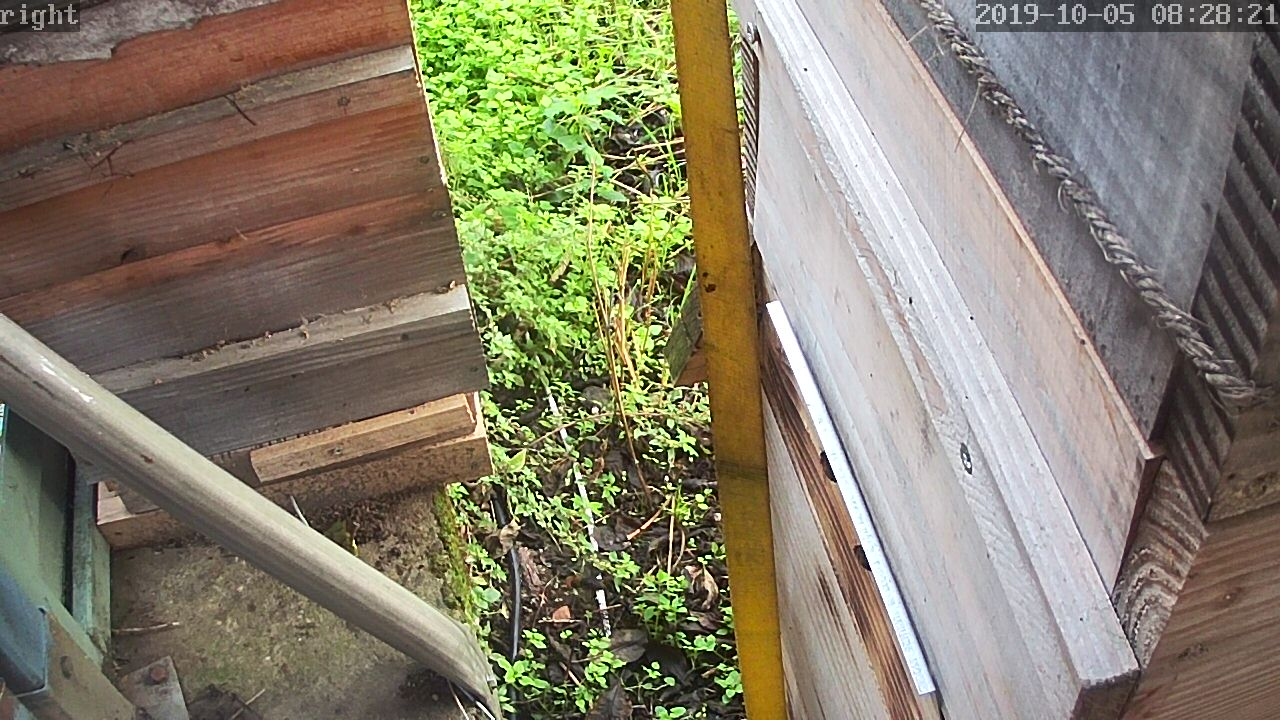bee: (844, 536, 877, 578), (816, 450, 842, 488)
